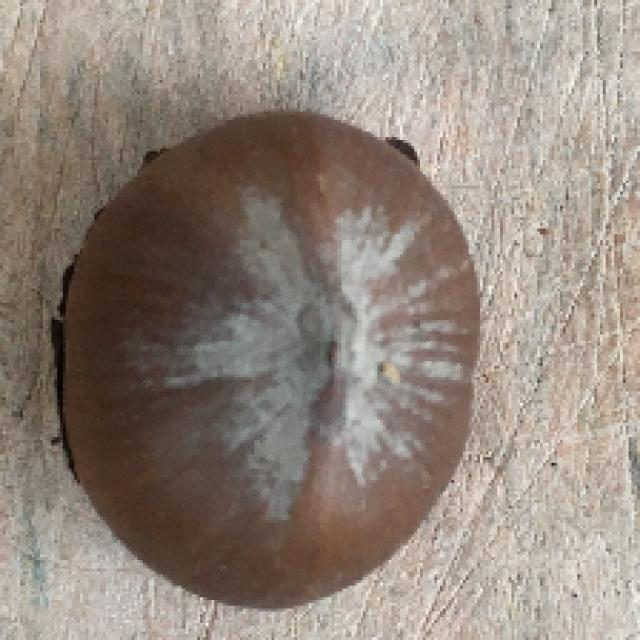damagedHazelnut: (50, 108, 479, 609)
